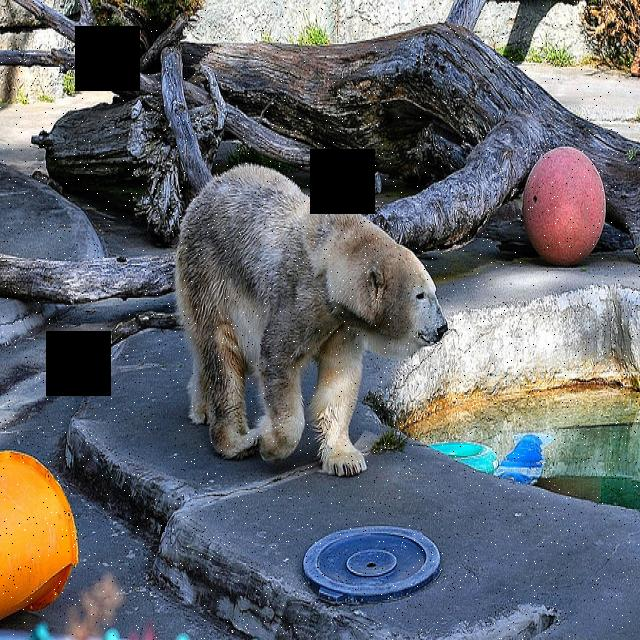Bear: (173, 157, 450, 475)
